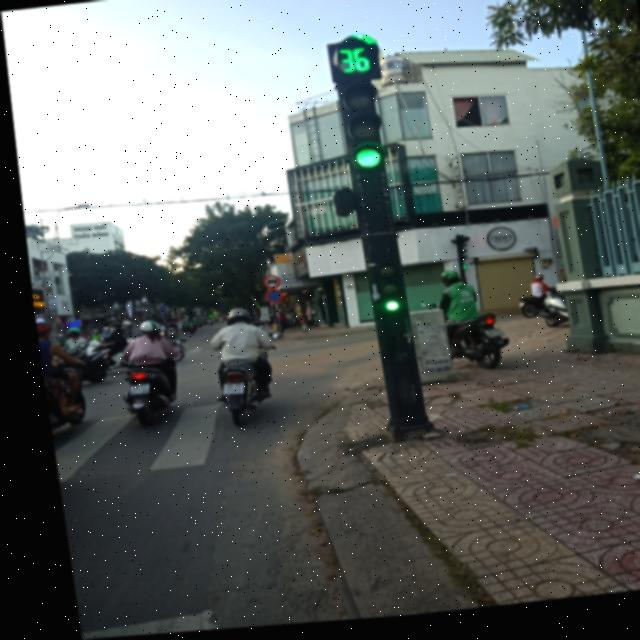Green: (330, 80, 387, 179), (355, 258, 399, 322)
